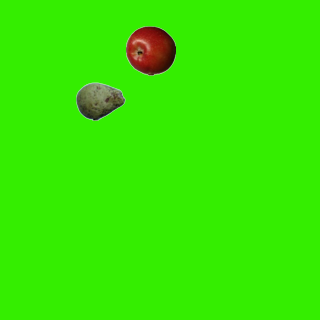Apple Braeburn: (125, 25, 175, 75)
Pear Stone: (75, 76, 125, 126)
